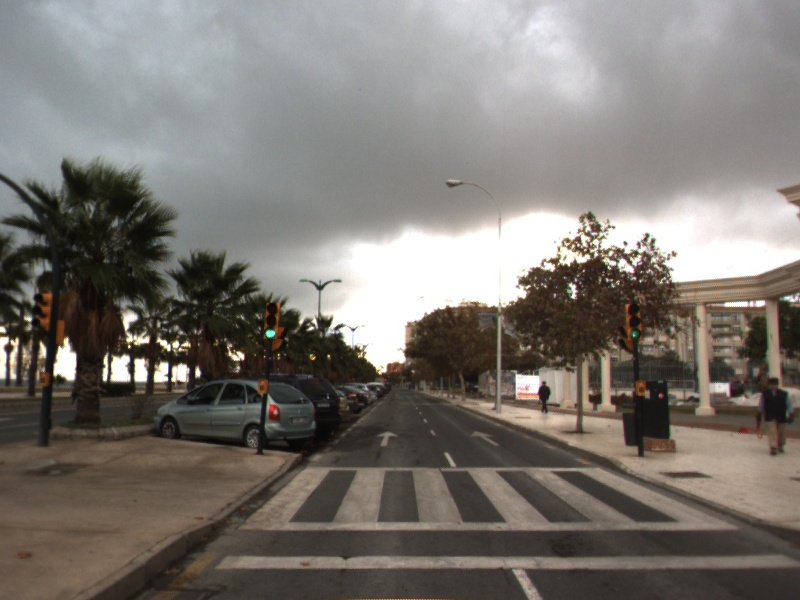STRAIGHT: (469, 429, 503, 448), (374, 430, 400, 448)
